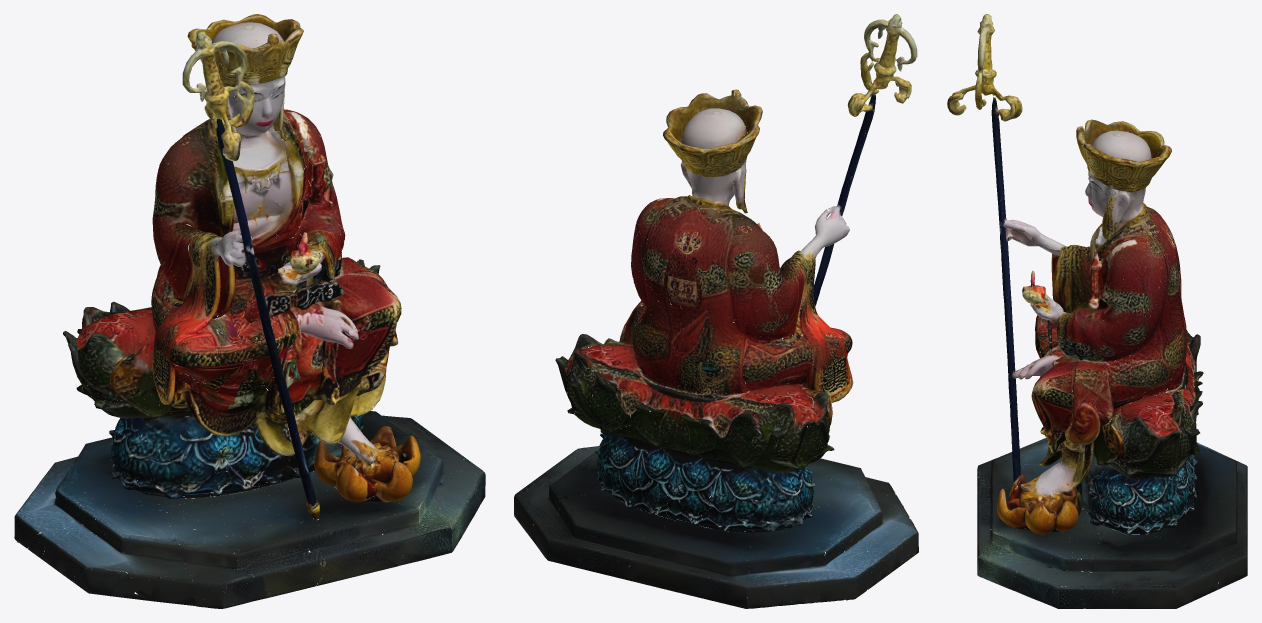
The picture shows the model from 3 angles, left to right: view 1: azimuth 30°, elevation 25°; view 2: azimuth 150°, elevation 25°; view 3: azimuth 270°, elevation 25°; orthographic projection. The views are drawn at different scales.
Parts seen in each view (by area): view 1: statue-020; view 2: statue-020; view 3: statue-020.
Boxes of the visible parts, left/top/right/bottom form: statue-020: left=14, top=14, right=485, bottom=608; statue-020: left=514, top=14, right=918, bottom=608; statue-020: left=947, top=14, right=1247, bottom=608.
Size of the model in its own units: 0.7226 by 1 by 0.5843.
1 material, 1 textured.
